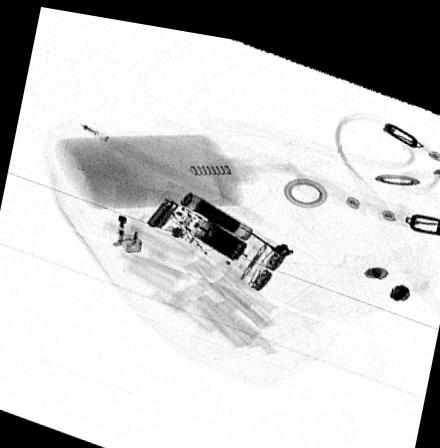Lighter: (107, 176, 148, 248)
